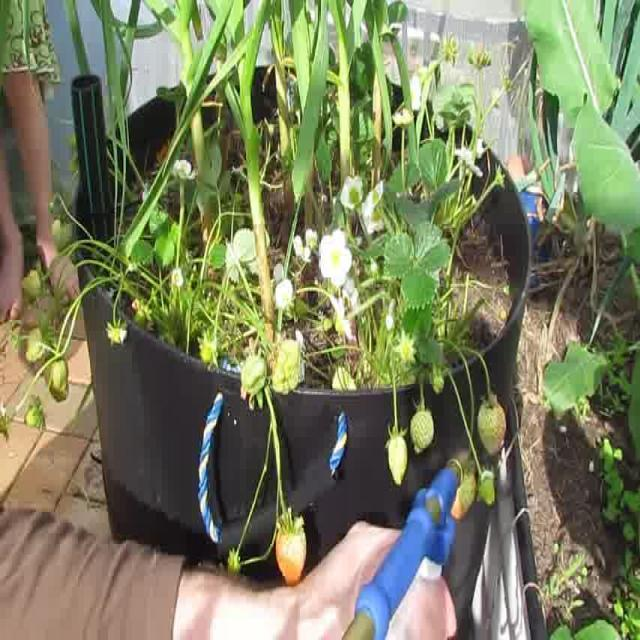Fruta sana: (275, 506, 307, 586), (444, 452, 478, 521), (272, 338, 304, 396), (477, 394, 506, 456), (24, 256, 45, 308), (240, 355, 266, 394), (52, 202, 73, 249), (48, 360, 68, 402), (331, 362, 358, 392), (24, 396, 46, 428), (478, 469, 496, 506), (132, 298, 152, 330), (25, 327, 43, 362), (228, 546, 242, 576), (432, 374, 444, 396), (0, 416, 10, 438), (54, 297, 60, 311)
Moho gris: (385, 425, 408, 487), (410, 410, 434, 454)
